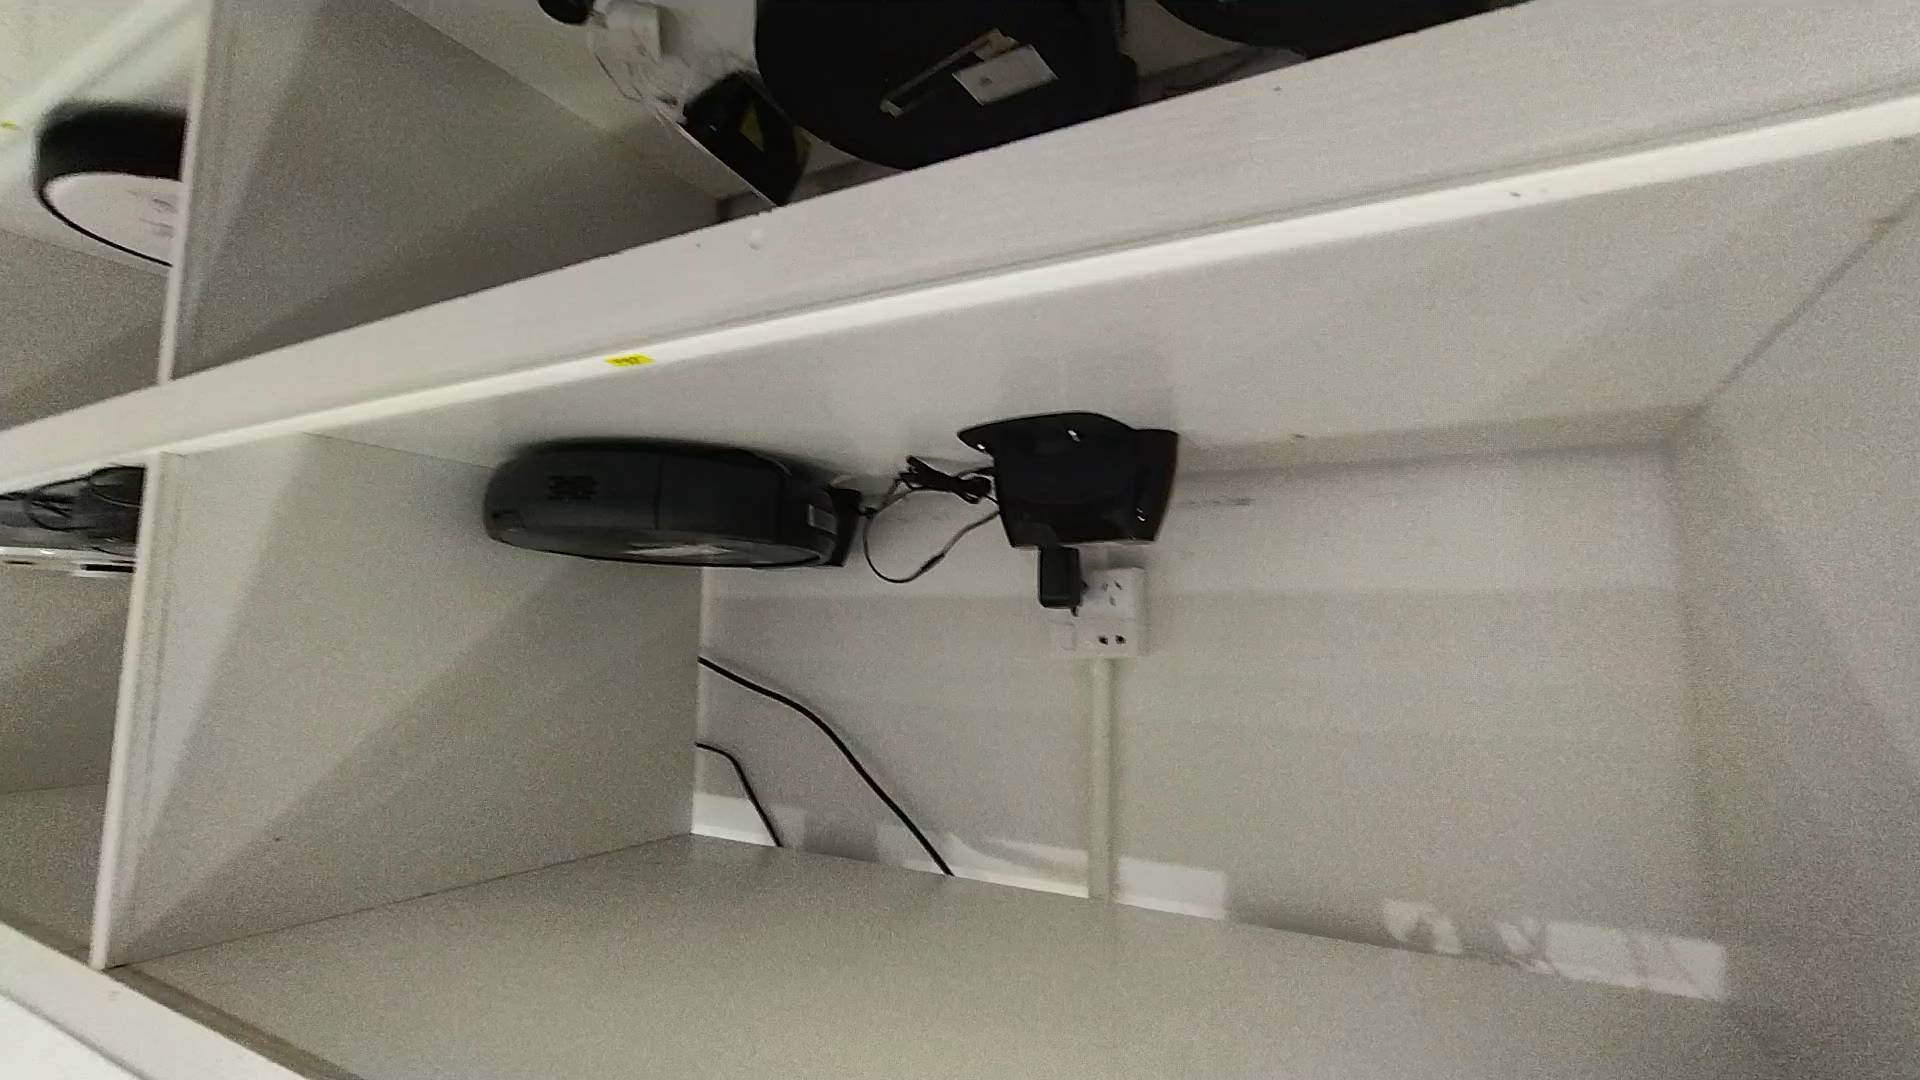recharge seat: (953, 410, 1180, 550)
